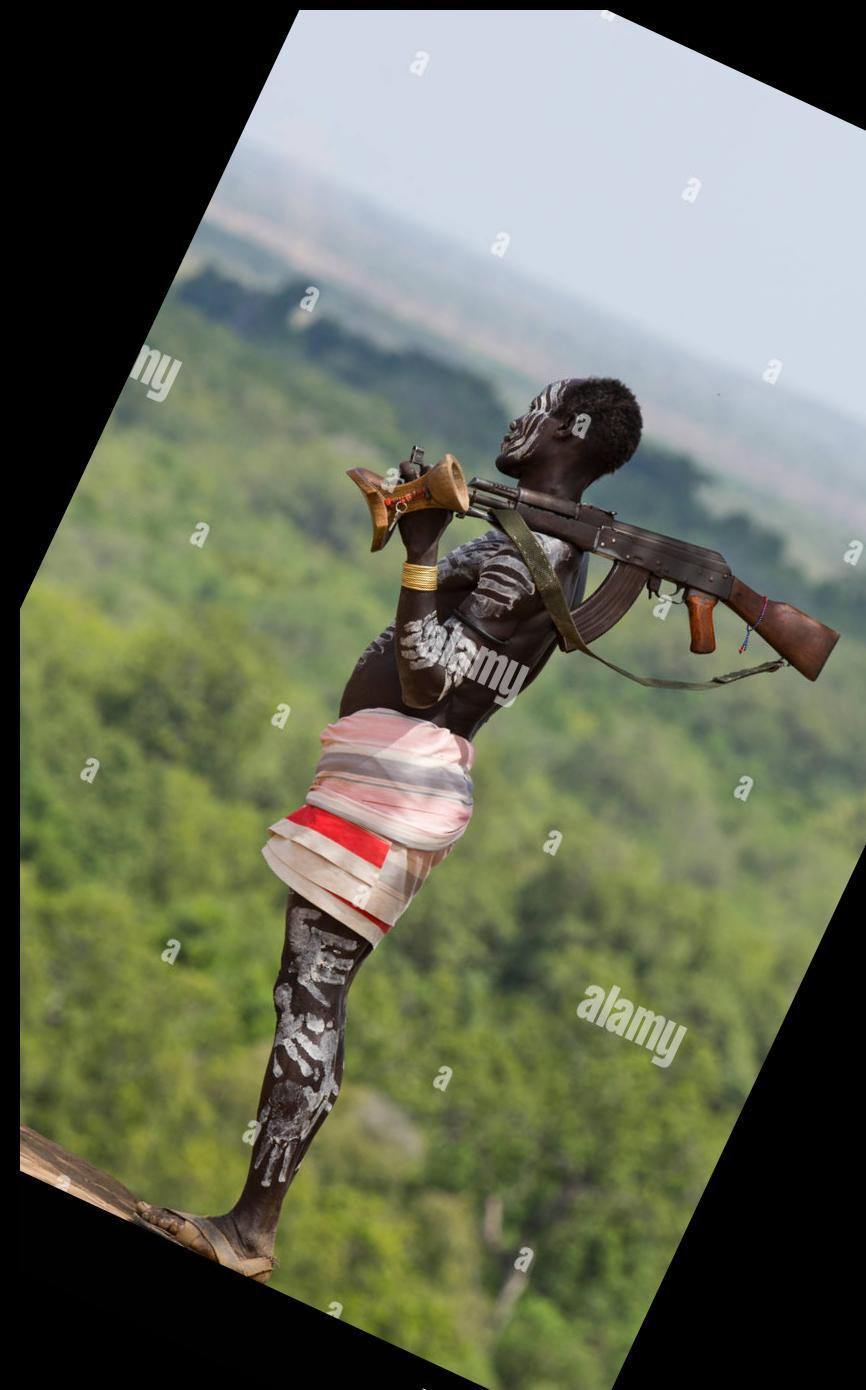larga: (399, 443, 843, 685)
